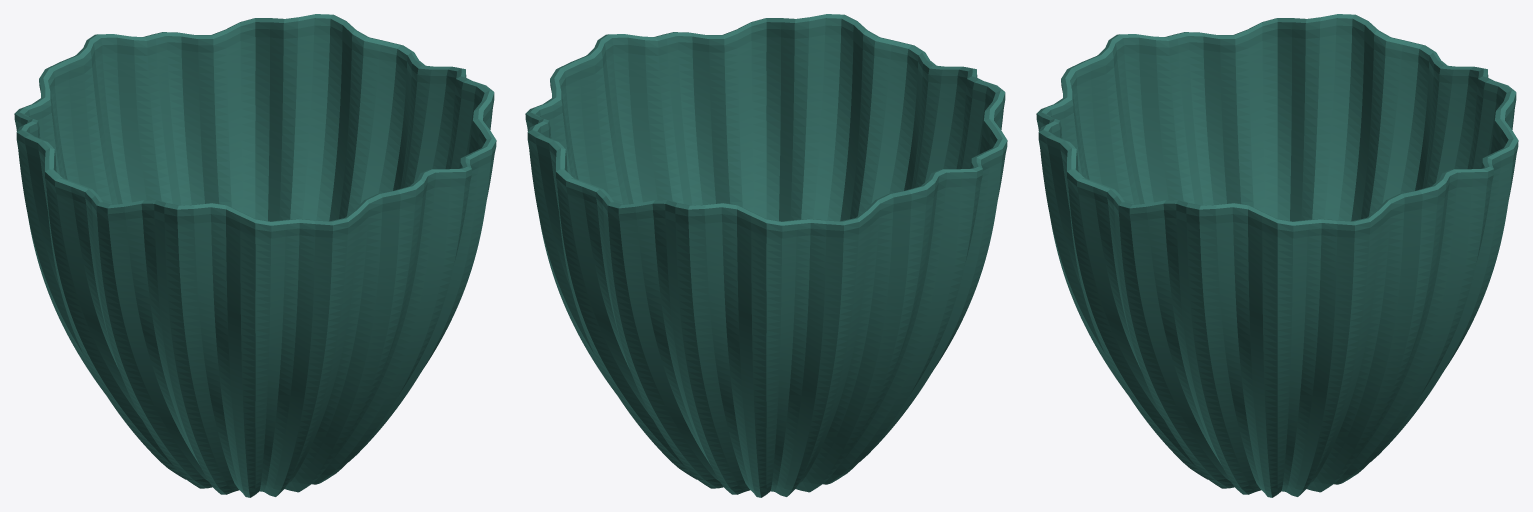
Rendered from tidal-vessel--verdigris.glb.
3 views of the same model, side by side, from view 1: azimuth 30°, elevation 25°; view 2: azimuth 150°, elevation 25°; view 3: azimuth 270°, elevation 25° (orthographic).
Visible parts, largest first — view 1: tidal-vessel; view 2: tidal-vessel; view 3: tidal-vessel.
Boxes of the visible parts, x1,y1,x2,y2 form: tidal-vessel: (14, 14, 496, 497); tidal-vessel: (525, 14, 1007, 497); tidal-vessel: (1036, 14, 1518, 497).
Bounding box in the file's own units: 3.89 × 3.14 × 3.85.
